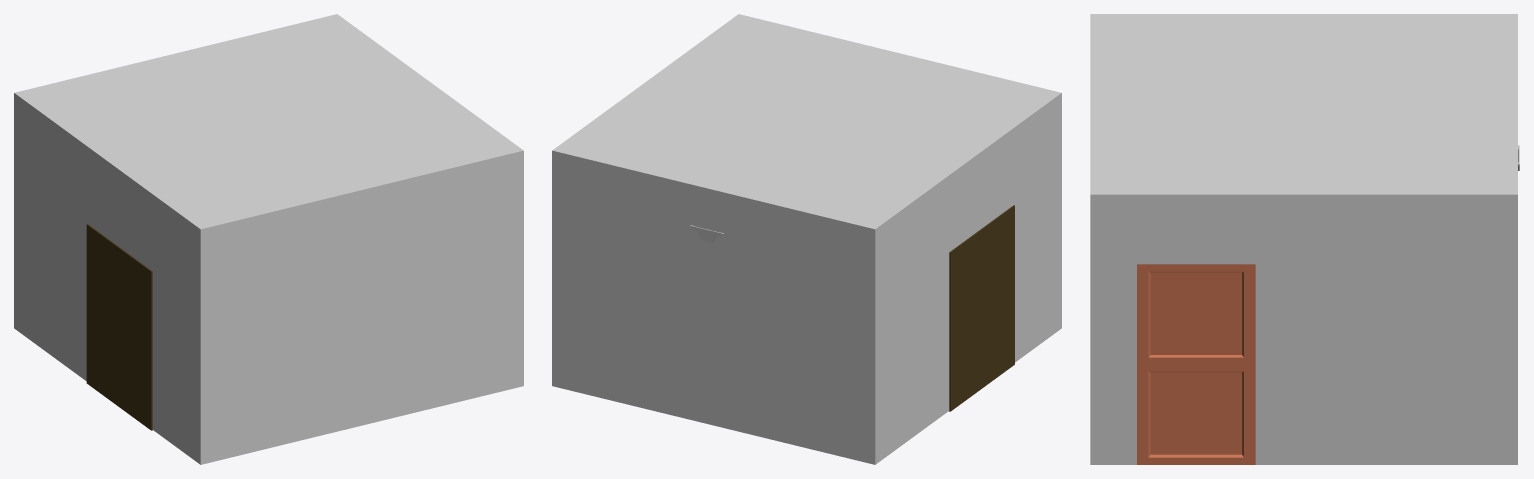
Rendered from room_final.fbx.
3 views of the same model, side by side, from view 1: azimuth 30°, elevation 25°; view 2: azimuth 150°, elevation 25°; view 3: azimuth 270°, elevation 25° (orthographic). The views are drawn at different scales.
Visible parts, largest first — view 1: Walls, Ormar; view 2: Walls, Ormar; view 3: Walls, Door.
Part boxes in pixels (x1,y1,x2,y2): Walls: (14,14,523,464); Ormar: (86,224,152,430); Walls: (552,14,1061,464); Ormar: (949,205,1014,411); Walls: (1090,14,1517,464); Door: (1137,264,1255,464).
Bounding box in the file's own units: 932 × 650 × 932.
